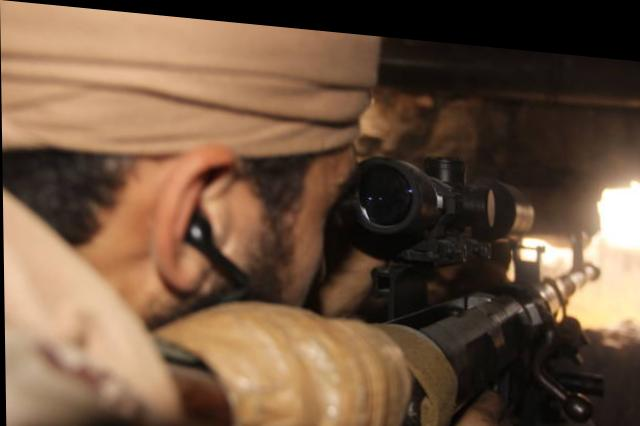other: (1, 0, 419, 424)
